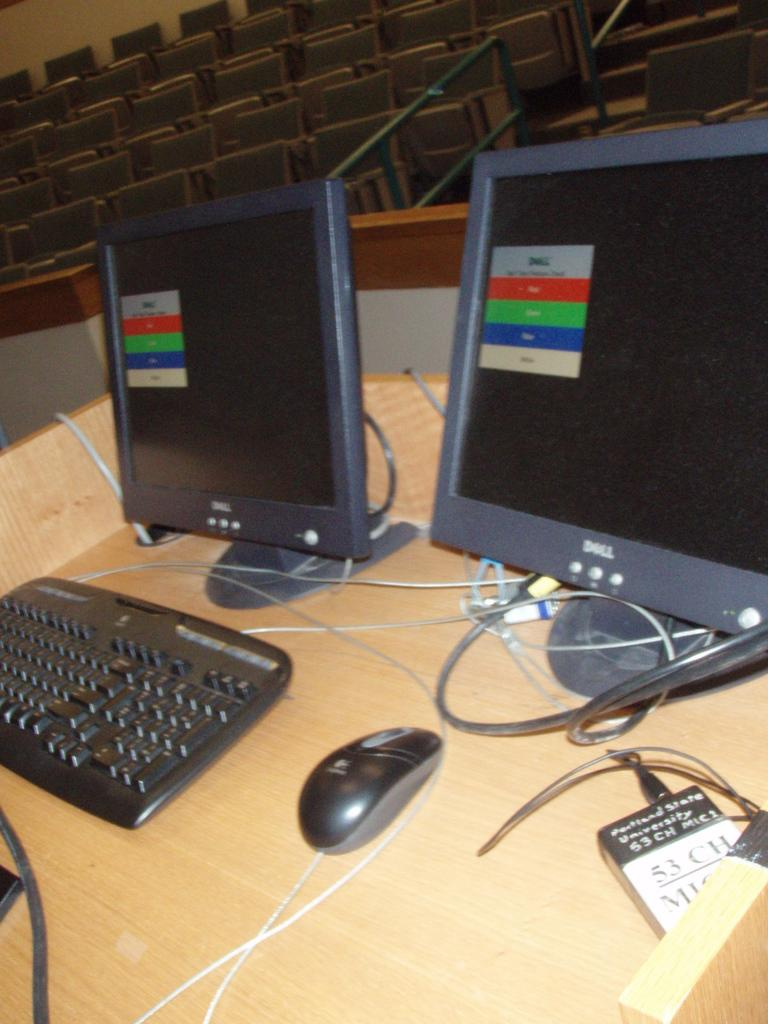Computer-mouse: (296, 719, 442, 852)
